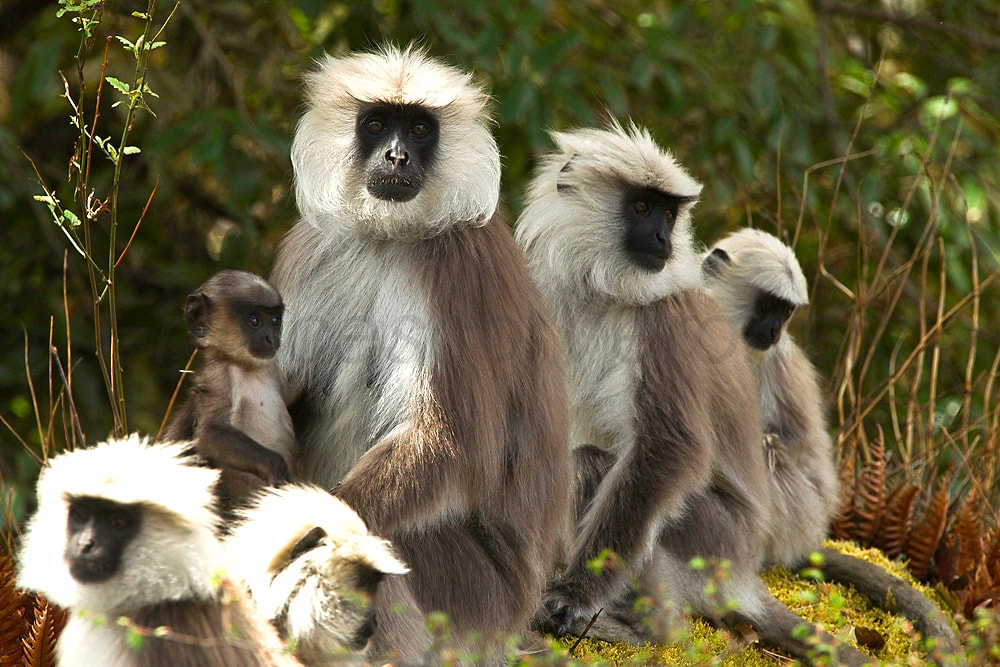monkey: (238, 30, 584, 665), (509, 114, 740, 667), (698, 208, 966, 667), (20, 436, 272, 665), (170, 267, 315, 487)
